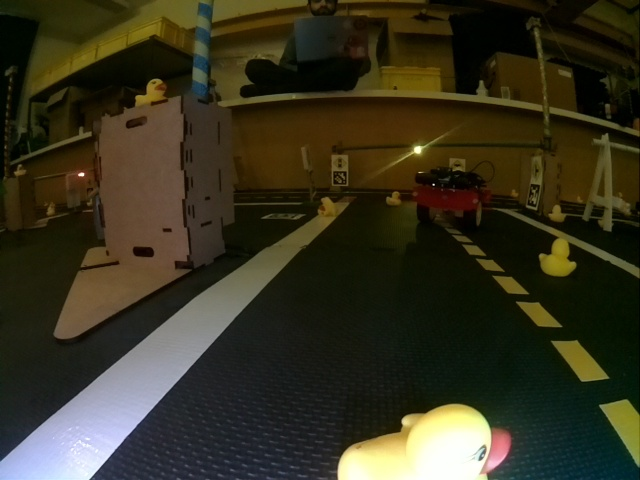Duckie: (339, 403, 510, 479), (540, 239, 576, 276), (135, 78, 166, 104), (318, 198, 337, 216), (548, 206, 565, 222), (387, 193, 400, 204), (14, 165, 24, 174), (47, 206, 56, 213), (511, 189, 518, 198)
Duckiebot: (416, 168, 493, 227)
Intersection sign: (449, 157, 466, 171), (532, 160, 541, 180)
QR code: (263, 212, 306, 220), (527, 185, 540, 208), (332, 171, 348, 186)
Signal sign: (333, 156, 346, 170)
Traffic light: (412, 142, 422, 156)
